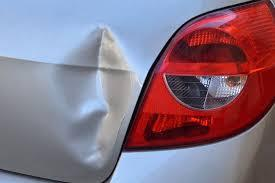dent: (43, 14, 143, 182)
